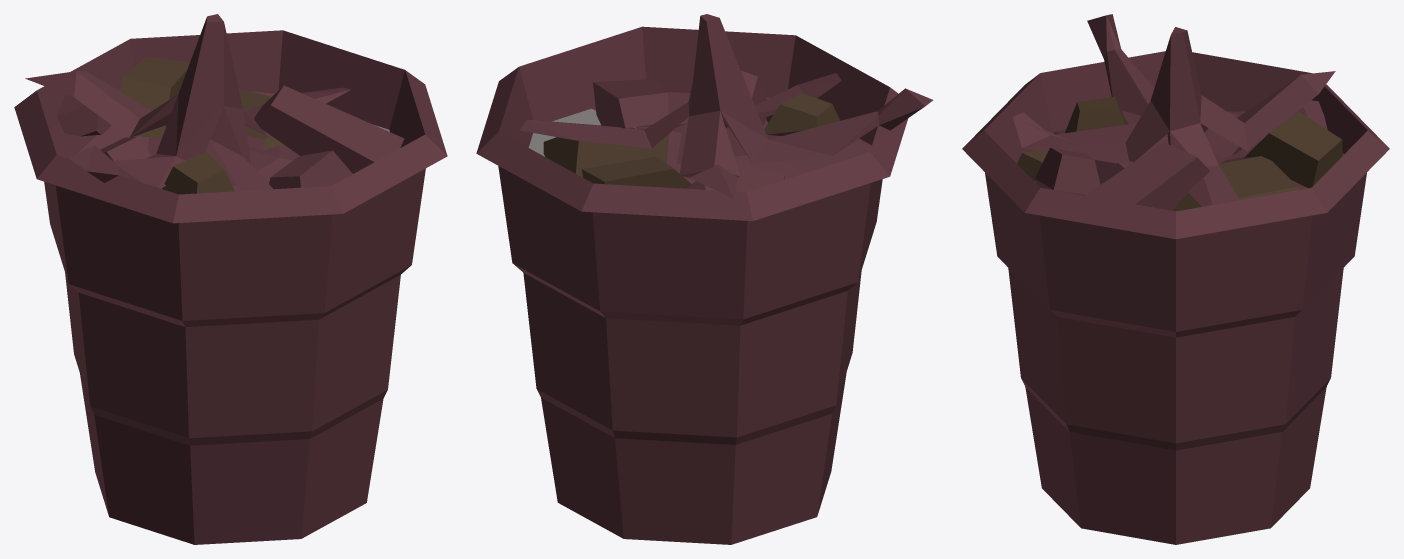
File: furniture-bin-house-small-full.glb
The picture shows the model from 3 angles, left to right: view 1: azimuth 30°, elevation 25°; view 2: azimuth 150°, elevation 25°; view 3: azimuth 270°, elevation 25°; orthographic projection. The views are drawn at different scales.
Parts seen in each view (by area): view 1: bin-house-small-full; view 2: bin-house-small-full; view 3: bin-house-small-full.
Boxes of the visible parts, x1,y1,x2,y2 form: bin-house-small-full: [14, 14, 447, 544]; bin-house-small-full: [476, 14, 933, 544]; bin-house-small-full: [962, 14, 1389, 544].
Bounding box in the file's own units: 0.3092 × 0.3584 × 0.3079.
